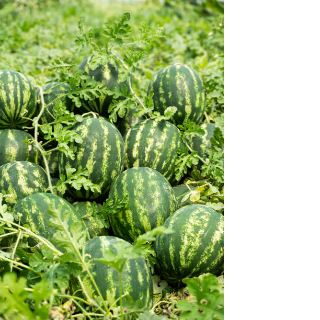dua_hau: (53, 113, 123, 205), (105, 164, 180, 246), (156, 201, 224, 287), (144, 63, 206, 132), (1, 67, 43, 129)
